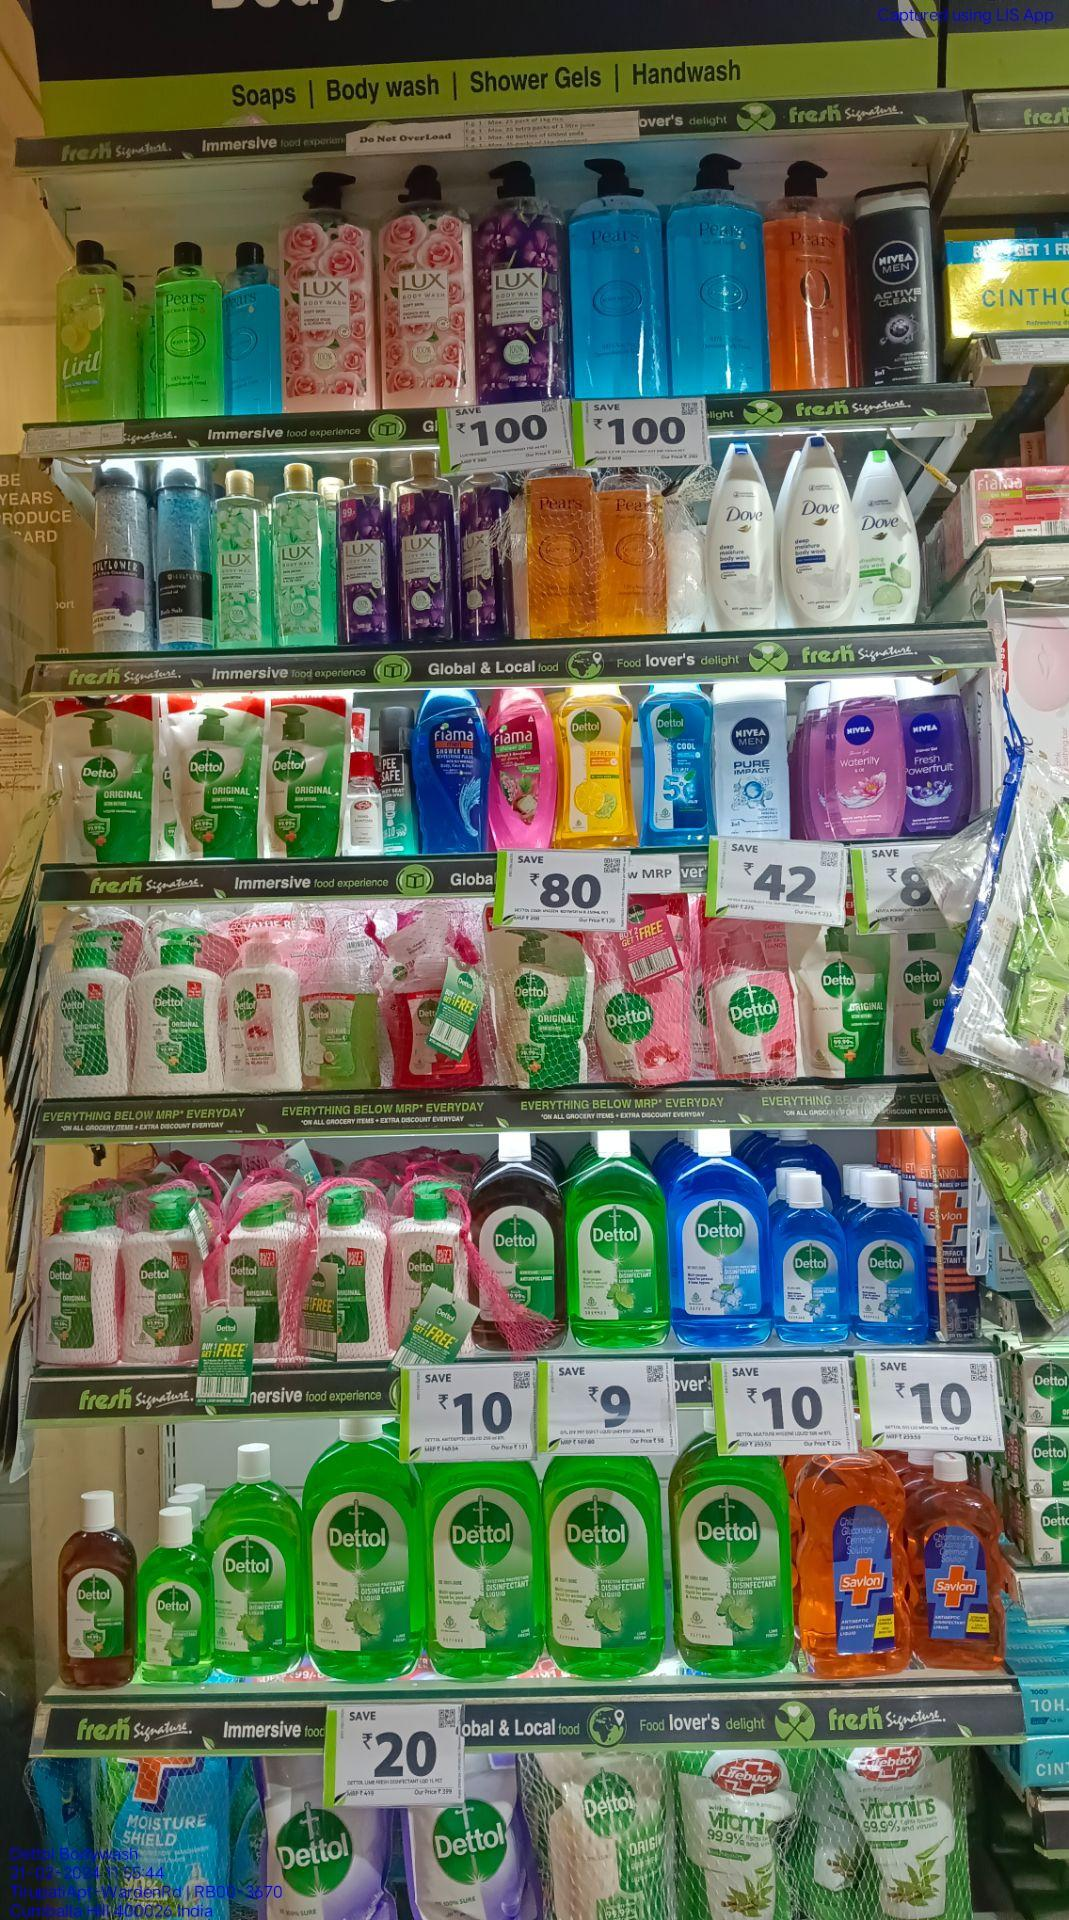Dettol_Bodywash_Cool: (635, 683, 711, 846)
Dettol_Bodywash_Refresh: (557, 686, 635, 849)
Dove_Deep_Moisture_Body_Wash_250ML: (779, 434, 853, 628), (707, 441, 775, 630)
Dove_Refreshing_Body_Wash_250ML: (854, 446, 922, 625)
Fiama_Shower_Gel_Patchouli_and_Macadamia_250ML: (488, 687, 557, 849)
Liril_Lime_and_Tea_Tree_Oil_Body_Wash_250ML: (54, 240, 125, 421)
Lux_Black_Orchid_Scent_and_Juniper_Oil_Body_Wash_245ML: (394, 447, 453, 649), (334, 454, 392, 649), (456, 475, 513, 645)
Lux_Body_Wash_Skin_Detox_Freesia_Scent_and_Alove_Vera_245ML: (270, 461, 333, 645), (209, 467, 271, 651)
Nivea_Shower_Gel_Fresh_Powerfruit_250ML: (904, 675, 973, 838)
Nivea_Shower_Gel_Waterlily_and_Oil_250ML: (823, 675, 907, 840)
Pears_Pure_Glycerin_and_Lemon_Flower_Extracts_Body_Wash_250ML: (154, 241, 221, 417)
Pears_Pure_Glycerin_and_Mint_Extracts_Body_Wash_250ML: (221, 241, 280, 412)
